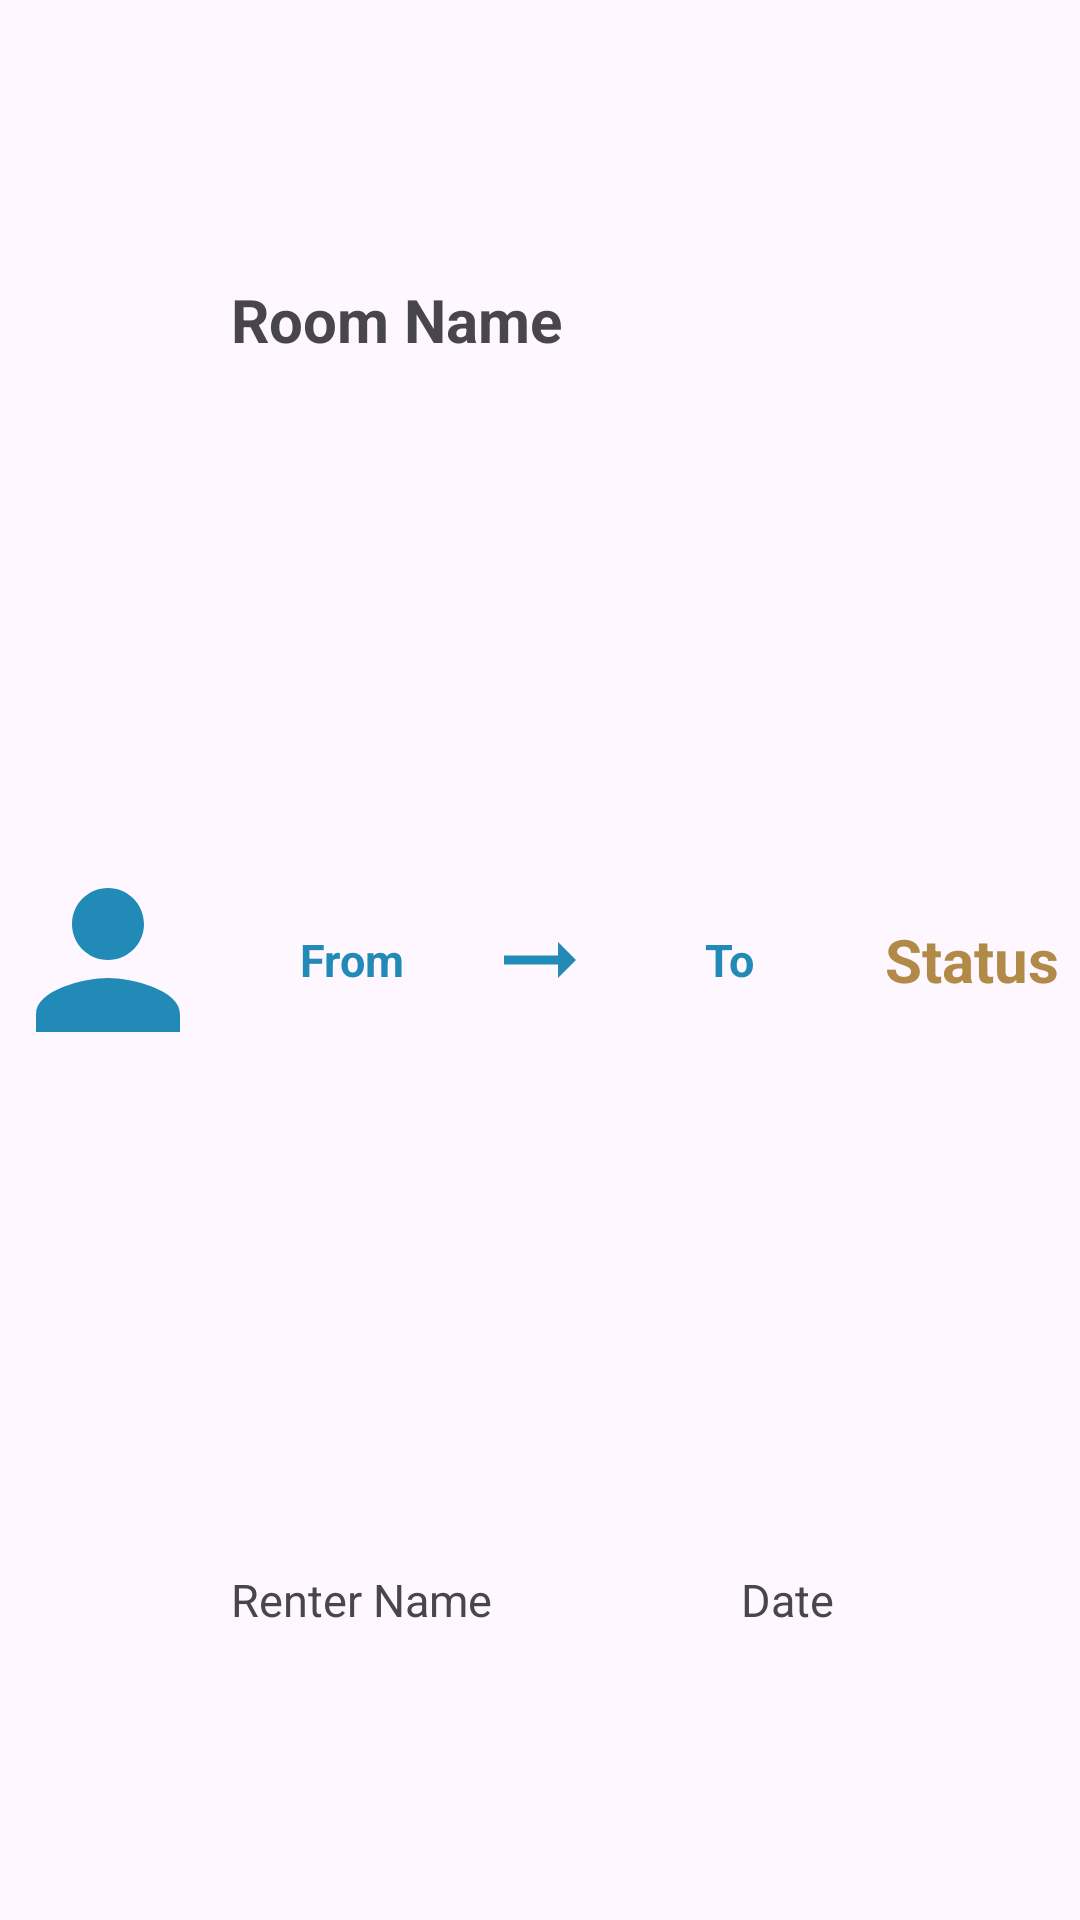

Where to tap for icons on this 1080*1920 app screen, as (x,y):
arrow: (540,960)
person: (108,960)
